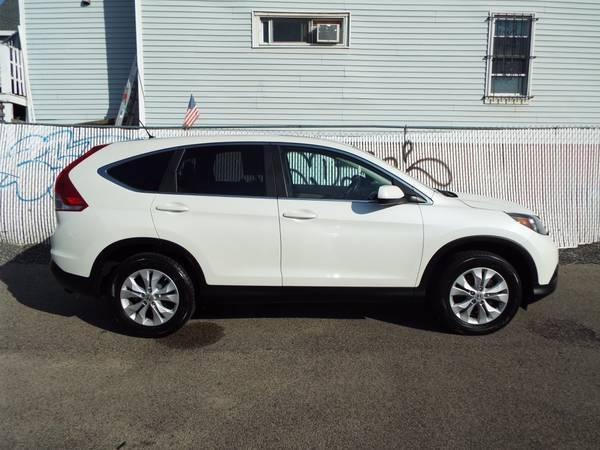Front_Bumper: (519, 232, 559, 303)
Front_Fender: (419, 194, 531, 274)
Front_Right_Door: (277, 200, 423, 288)
Front_Right_Window: (269, 139, 433, 205)
Hood: (448, 192, 533, 213)
Rear_Bumper: (50, 211, 109, 277)
Rear_Fender: (69, 139, 179, 244)
Rear_Right_Door: (148, 192, 281, 287)
Rear_Right_Window: (156, 138, 275, 198)
Right_Headlight: (505, 213, 548, 235)
Right_Taillight: (53, 144, 109, 212)
Wheel: (433, 252, 520, 338), (108, 252, 193, 337)
